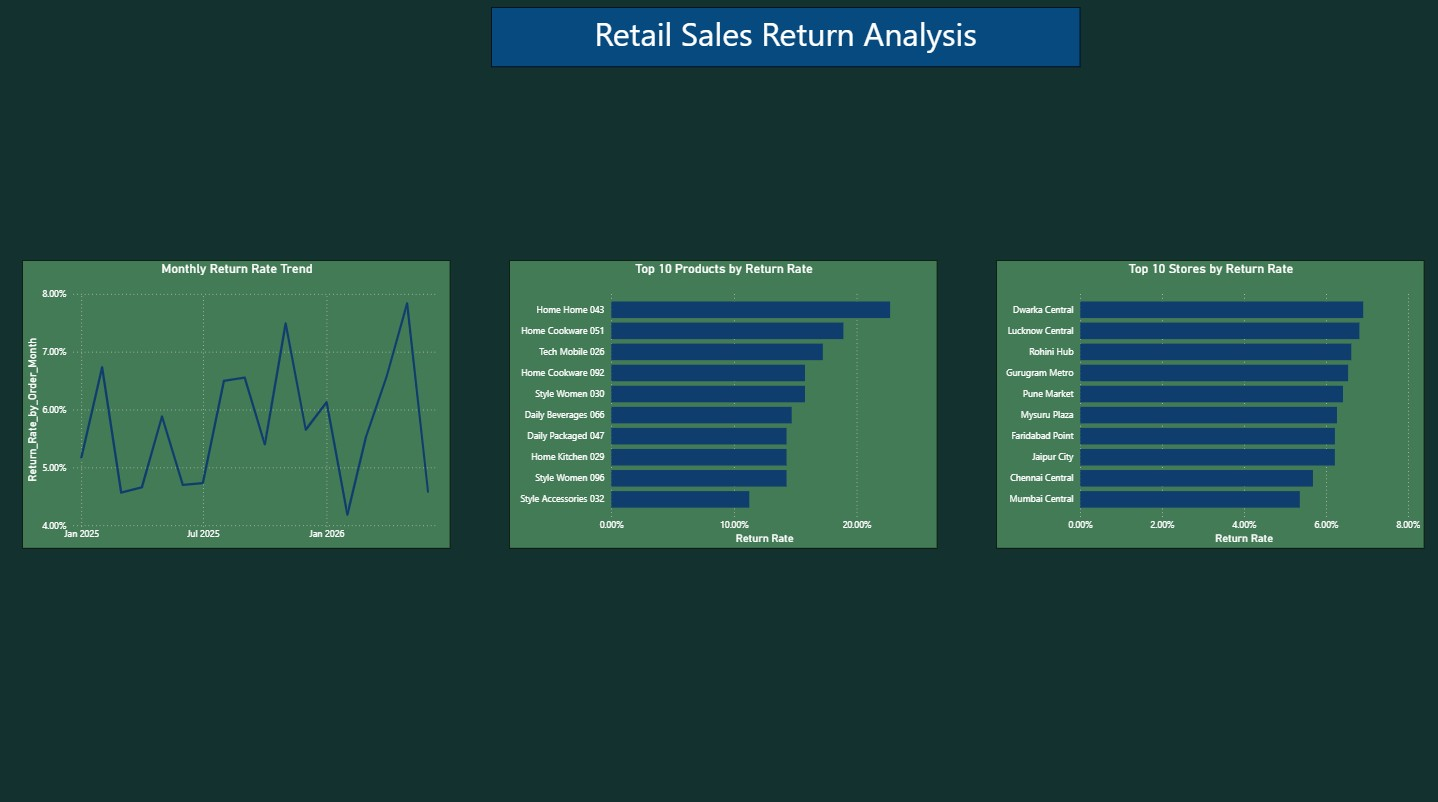

This screenshot's page, from the dashboard's own definition file:
{"tool":"powerbi","page":{"name":"Return Analysis","canvas":[1920,1080],"ordinal":3},"visuals":[{"type":"textbox","box":[656,16,784,80],"z":0},{"type":"lineChart","title":"Monthly Return Rate Trend","fields":{"Category":["Sales_Transactions.Order_Date.Variation.Date Hierarchy.Year","Sales_Transactions.Order_Date.Variation.Date Hierarchy.Month"],"Y":["Returns.Return_Rate_by_Order_Month"]},"box":[32,352,570,384],"z":1000},{"type":"clusteredBarChart","title":"Top 10 Products by Return Rate","fields":{"Category":["Products.Product_Name"],"Y":["Returns.Return_Rate_by_Order_Month"]},"box":[680,352,570,384],"z":2000},{"type":"clusteredBarChart","title":"Top 10 Stores by Return Rate","fields":{"Category":["Stores.Store_Name"],"Y":["Returns.Return_Rate_by_Order_Month"]},"box":[1328,352,570,384],"z":3000}]}

Visuals, with their boxes in screenshot pixels (x1, y1, x2, y2), scaled from the page's 1920x1080 canvas onto the 1438x802 screenshot:
textbox: <region>491, 12, 1078, 71</region>
"Monthly Return Rate Trend" lineChart: <region>24, 261, 451, 547</region>
"Top 10 Products by Return Rate" clusteredBarChart: <region>509, 261, 936, 547</region>
"Top 10 Stores by Return Rate" clusteredBarChart: <region>995, 261, 1422, 547</region>
